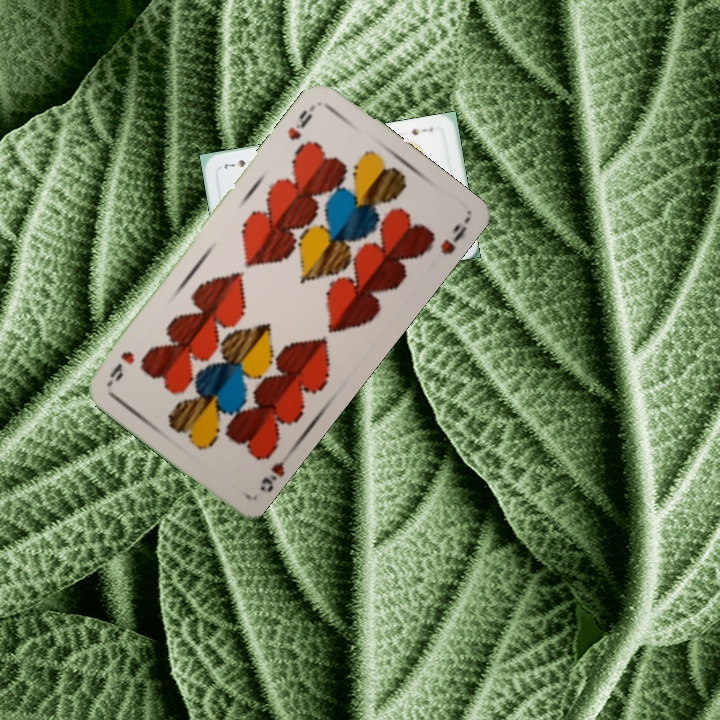H9: (255, 457, 287, 495), (283, 105, 315, 143)
S7: (407, 122, 436, 138)
